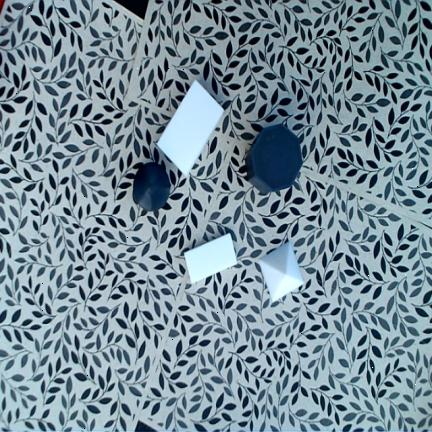Esfera: (133, 162, 170, 211)
Paralelepipedo: (156, 79, 225, 179), (183, 233, 237, 283)
Piramide: (259, 240, 304, 302)
Prisma_hexagonal: (246, 124, 302, 194)
